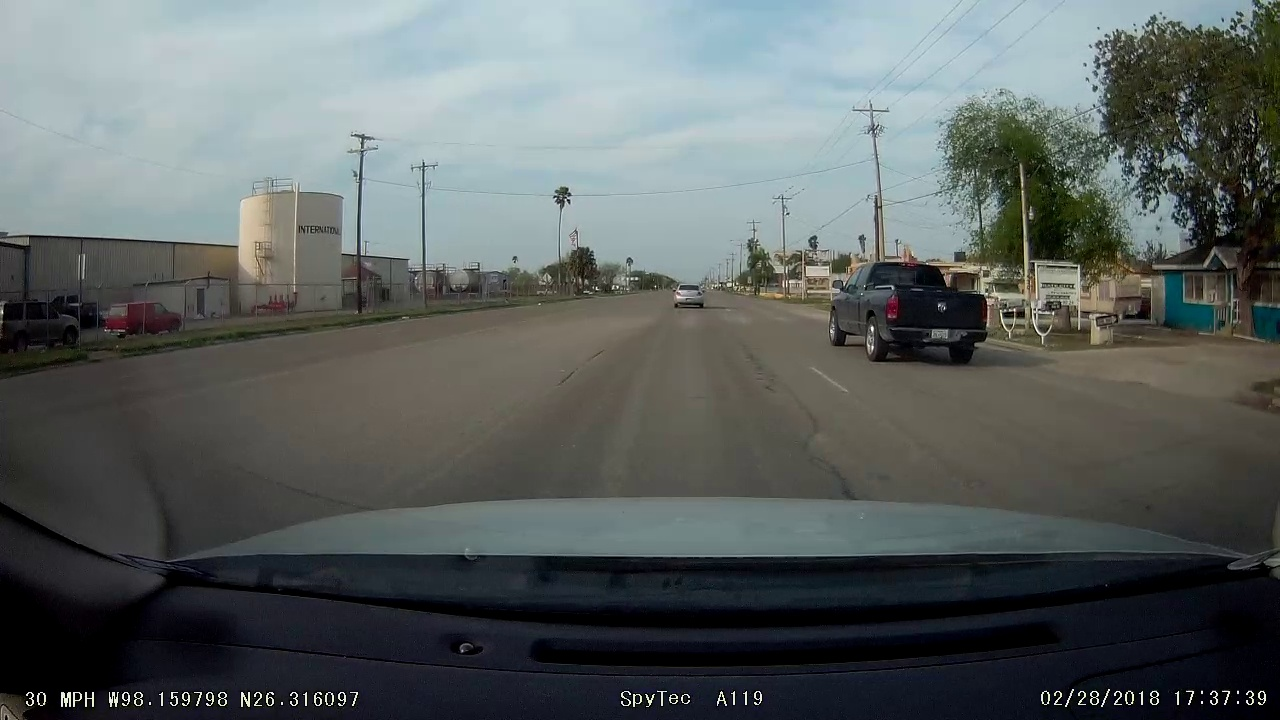blurredLine: (157, 332, 517, 397), (332, 432, 494, 505)
crack: (725, 334, 866, 492), (545, 324, 613, 403)
